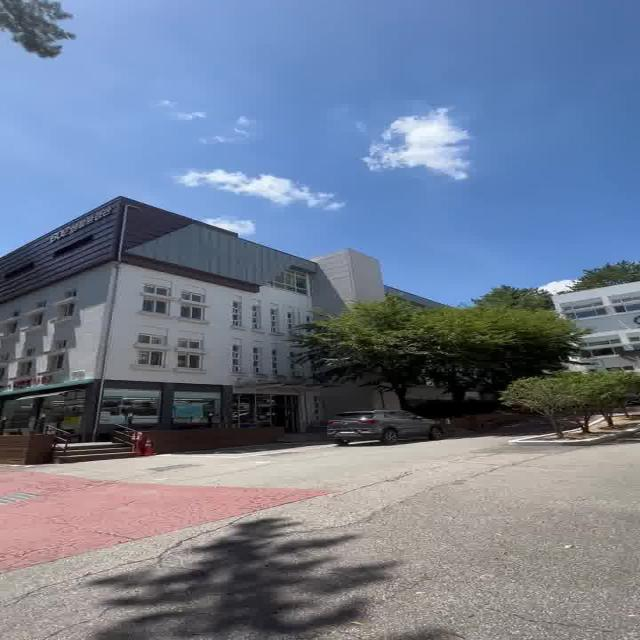building: (12, 189, 324, 419)
